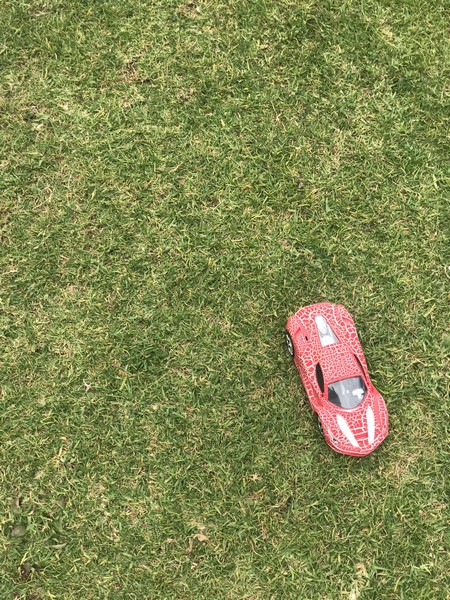RC: (283, 301, 391, 461)
